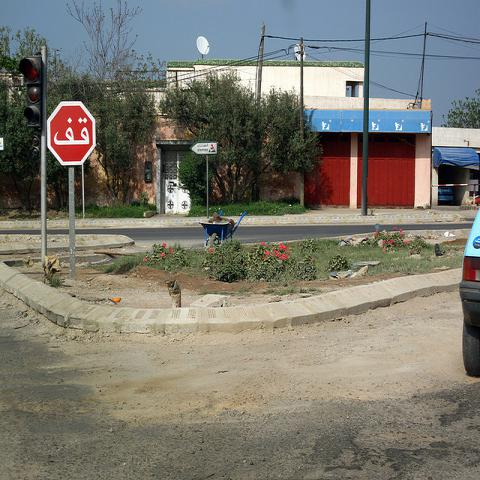car: (458, 205, 480, 381), (438, 186, 454, 204)
